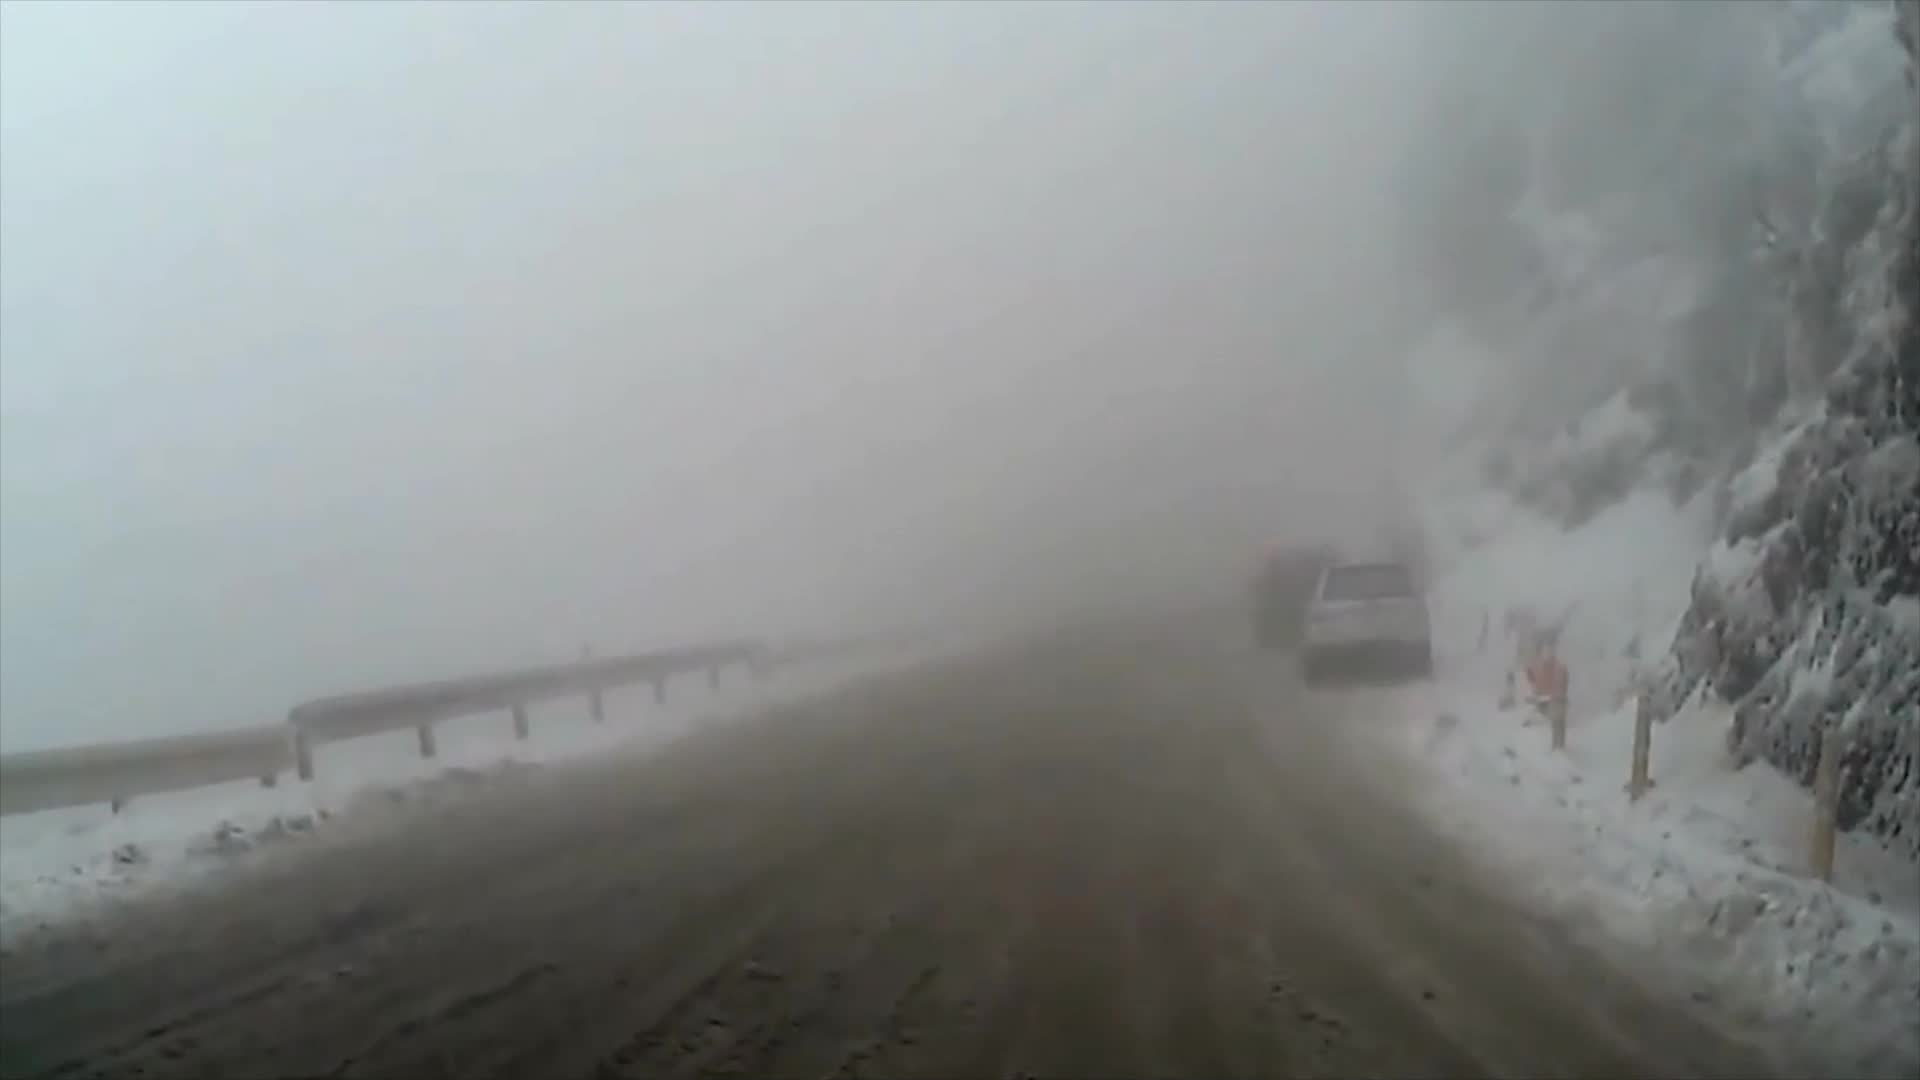vehicle: (1304, 553, 1429, 680), (1244, 554, 1356, 662)
